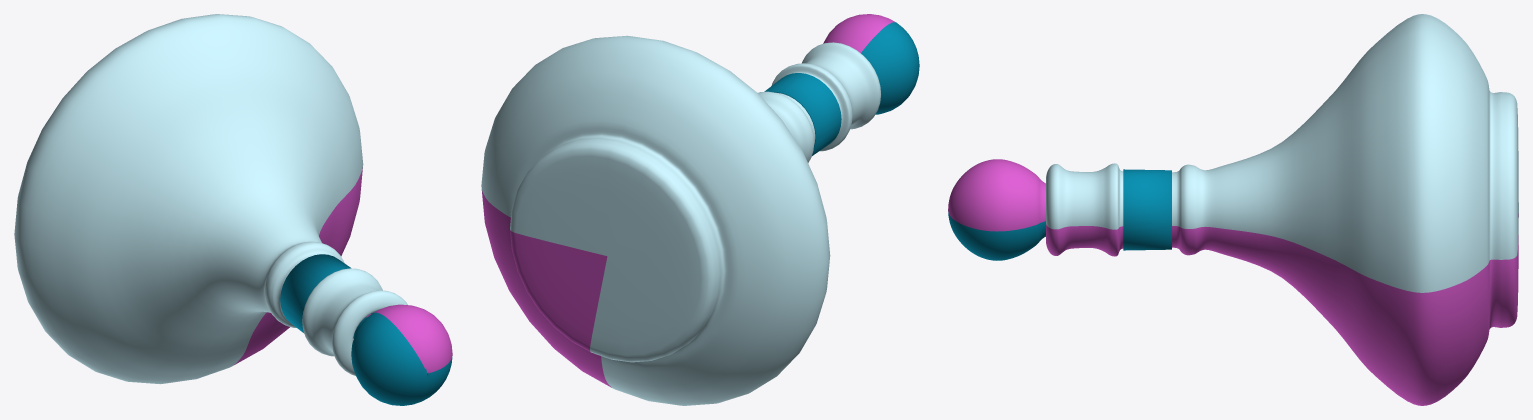
File: potion_flask_subpatches.obj
3 views of the same model, side by side, from view 1: azimuth 30°, elevation 25°; view 2: azimuth 150°, elevation 25°; view 3: azimuth 270°, elevation 25° (orthographic).
Visible parts, largest first — view 1: Imported_OBJ_Object; view 2: Imported_OBJ_Object; view 3: Imported_OBJ_Object.
Part boxes in pixels (x1,y1,x2,y2): Imported_OBJ_Object: (14,14,452,405); Imported_OBJ_Object: (481,14,919,405); Imported_OBJ_Object: (948,14,1518,405).
Size of the model in its own units: 0.1536 by 0.1536 by 0.2234.
